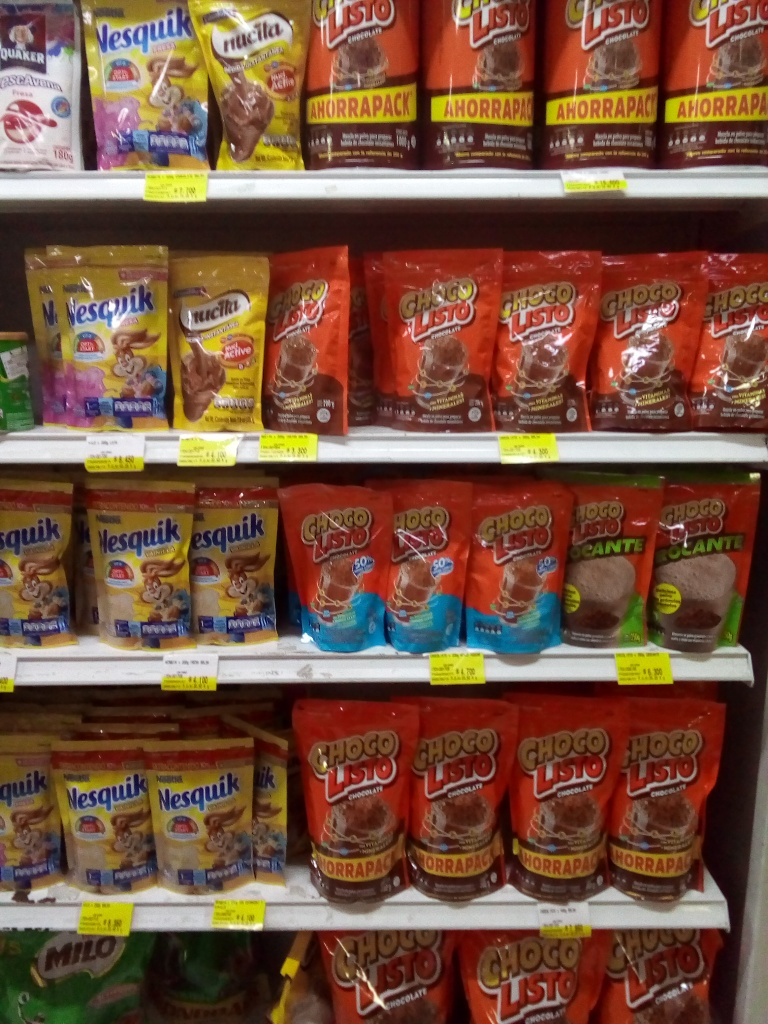COL0170102DYP25000: (561, 473, 648, 648)
COL0170103DYP44000: (292, 691, 415, 902)
COL0170103TRR00100: (318, 0, 421, 173)
COL0170104DYP20000: (279, 486, 386, 650)
COL0170305DYP20000: (19, 245, 170, 431)
